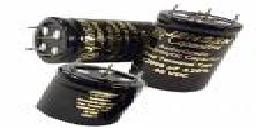Electrolytic-Capacitor: (142, 1, 244, 99), (37, 58, 142, 128), (20, 14, 146, 65)
